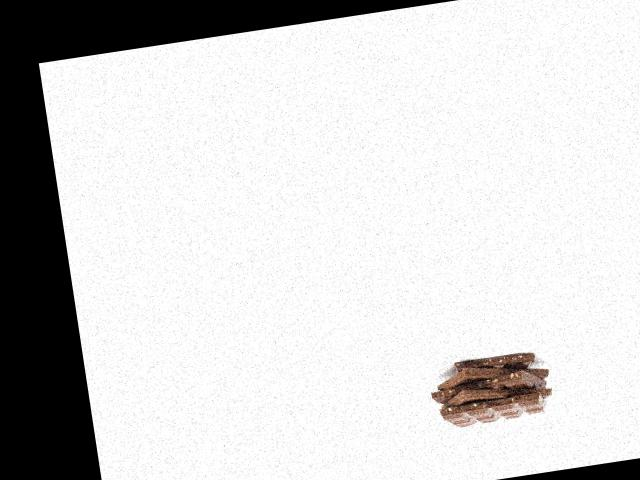chocolate: (433, 342, 548, 403)
